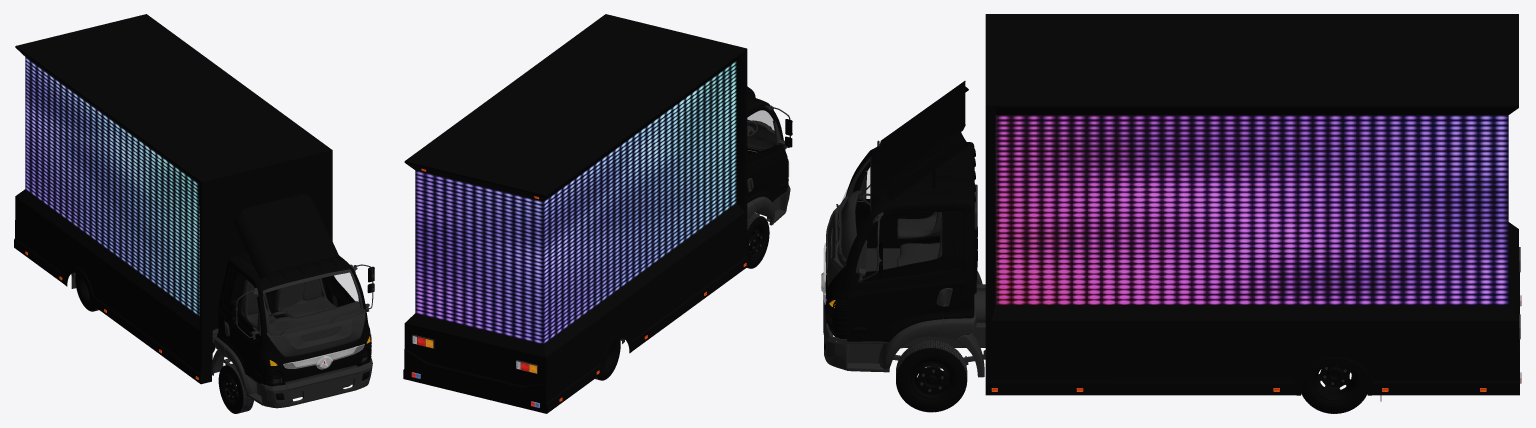
The model's file is ultra_non_compressed.glb.
The picture shows the model from 3 angles, left to right: view 1: azimuth 30°, elevation 25°; view 2: azimuth 150°, elevation 25°; view 3: azimuth 270°, elevation 25°; orthographic projection. The views are drawn at different scales.
Parts seen in each view (by area): view 1: pTorus7, BMG_07_04_2024:Tata_Ultra_T7:pPlane32, pCube10, BMG_07_04_2024:Tata_Ultra_T7:pPlane6, BMG_07_04_2024:Tata_Ultra_T7:pPlane3, BMG_07_04_2024:Tata_Ultra_T7:pCube115, BMG_07_04_2024:Tata_Ultra_T7:polySurface3, BMG_07_04_2024:Tata_Ultra_T7:pPlane9, BMG_07_04_2024:Tata_Ultra_T7:polySurface11, BMG_07_04_2024:Tata_Ultra_T7:pCube116, BMG_07_04_2024:Tata_Ultra_T7:pPlane17, BMG_07_04_2024:Tata_Ultra_T7:pCube114 (+4 smaller); view 2: pTorus7, BMG_07_04_2024:Tata_Ultra_T7:pPlane32, BMG_07_04_2024:Tata_Ultra_T7:pPlane17, BMG_07_04_2024:Tata_Ultra_T7:polySurface11, BMG_07_04_2024:Tata_Ultra_T7:pTorus5, BMG_07_04_2024:Tata_Ultra_T7:pCube116, BMG_07_04_2024:Tata_Ultra_T7:pCylinder37; view 3: pTorus7, BMG_07_04_2024:Tata_Ultra_T7:pPlane32, pCube10, BMG_07_04_2024:Tata_Ultra_T7:pPlane16, BMG_07_04_2024:Tata_Ultra_T7:polySurface5, BMG_07_04_2024:Tata_Ultra_T7:pTorus4, BMG_07_04_2024:Tata_Ultra_T7:pPlane6, BMG_07_04_2024:Tata_Ultra_T7:pCylinder27, BMG_07_04_2024:Tata_Ultra_T7:pTorus9, BMG_07_04_2024:Tata_Ultra_T7:pCylinder76, BMG_07_04_2024:Tata_Ultra_T7:pCube114, BMG_07_04_2024:Tata_Ultra_T7:pCube115 (+5 smaller).
Part boxes in pixels (x1=…): pTorus7: x1=14, y1=14, x2=332, y2=384; BMG_07_04_2024:Tata_Ultra_T7:pPlane32: x1=217, y1=253, x2=370, y2=384; pCube10: x1=233, y1=193, x2=340, y2=279; BMG_07_04_2024:Tata_Ultra_T7:pPlane6: x1=264, y1=273, x2=360, y2=331; BMG_07_04_2024:Tata_Ultra_T7:pPlane3: x1=266, y1=309, x2=365, y2=356; BMG_07_04_2024:Tata_Ultra_T7:pCube115: x1=275, y1=278, x2=336, y2=317; BMG_07_04_2024:Tata_Ultra_T7:polySurface3: x1=285, y1=366, x2=359, y2=405; BMG_07_04_2024:Tata_Ultra_T7:pPlane9: x1=262, y1=269, x2=363, y2=335; BMG_07_04_2024:Tata_Ultra_T7:polySurface11: x1=211, y1=337, x2=262, y2=405; BMG_07_04_2024:Tata_Ultra_T7:pCube116: x1=269, y1=301, x2=360, y2=331; BMG_07_04_2024:Tata_Ultra_T7:pPlane17: x1=231, y1=274, x2=257, y2=329; BMG_07_04_2024:Tata_Ultra_T7:pCube114: x1=241, y1=279, x2=275, y2=328; pTorus7: x1=403, y1=14, x2=748, y2=413; BMG_07_04_2024:Tata_Ultra_T7:pPlane32: x1=747, y1=96, x2=787, y2=203; BMG_07_04_2024:Tata_Ultra_T7:pPlane17: x1=748, y1=111, x2=776, y2=153; BMG_07_04_2024:Tata_Ultra_T7:polySurface11: x1=747, y1=193, x2=786, y2=225; BMG_07_04_2024:Tata_Ultra_T7:pTorus5: x1=747, y1=216, x2=769, y2=268; BMG_07_04_2024:Tata_Ultra_T7:pCube116: x1=747, y1=120, x2=775, y2=142; BMG_07_04_2024:Tata_Ultra_T7:pCylinder37: x1=748, y1=227, x2=764, y2=257; pTorus7: x1=985, y1=14, x2=1520, y2=395; BMG_07_04_2024:Tata_Ultra_T7:pPlane32: x1=825, y1=142, x2=977, y2=341; pCube10: x1=880, y1=81, x2=968, y2=200; BMG_07_04_2024:Tata_Ultra_T7:pPlane16: x1=867, y1=212, x2=941, y2=270; BMG_07_04_2024:Tata_Ultra_T7:polySurface5: x1=846, y1=309, x2=984, y2=377; BMG_07_04_2024:Tata_Ultra_T7:pTorus4: x1=896, y1=340, x2=966, y2=412; BMG_07_04_2024:Tata_Ultra_T7:pPlane6: x1=840, y1=158, x2=869, y2=260; BMG_07_04_2024:Tata_Ultra_T7:pCylinder27: x1=910, y1=361, x2=952, y2=399; BMG_07_04_2024:Tata_Ultra_T7:pTorus9: x1=1301, y1=369, x2=1367, y2=413; BMG_07_04_2024:Tata_Ultra_T7:pCylinder76: x1=1313, y1=365, x2=1355, y2=401; BMG_07_04_2024:Tata_Ultra_T7:pCube114: x1=897, y1=212, x2=942, y2=238; BMG_07_04_2024:Tata_Ultra_T7:pCube115: x1=897, y1=217, x2=942, y2=266.
Size of the model in its own units: 2.35 by 3.44 by 6.97.
17 materials, 5 textured.
